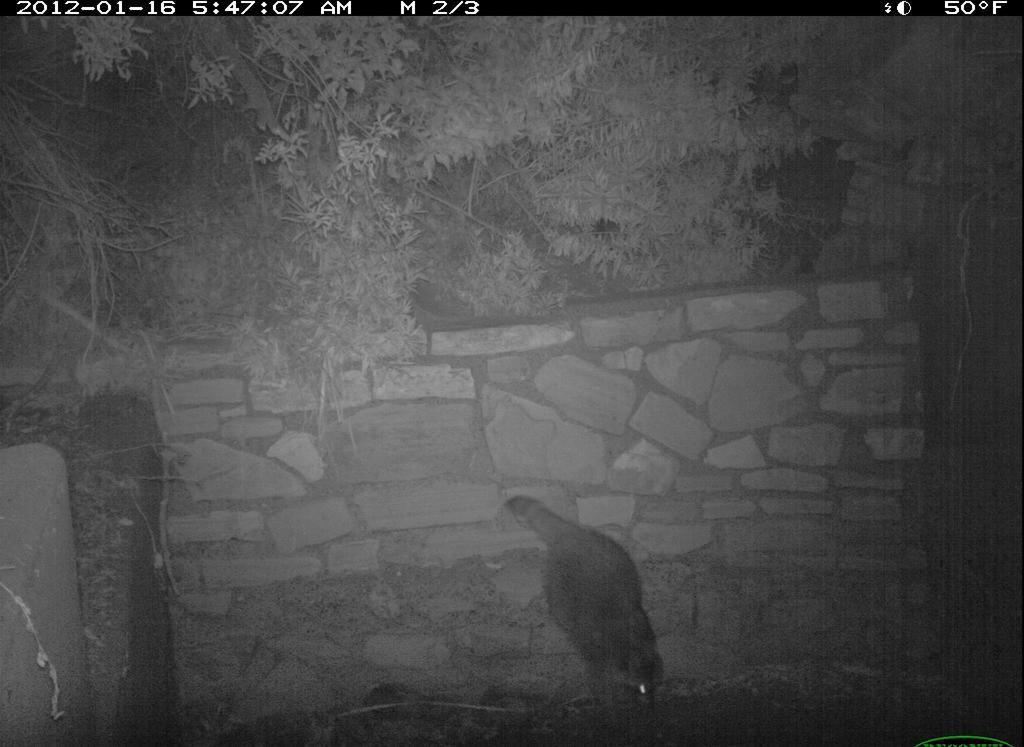raccoon: (498, 487, 674, 744)
